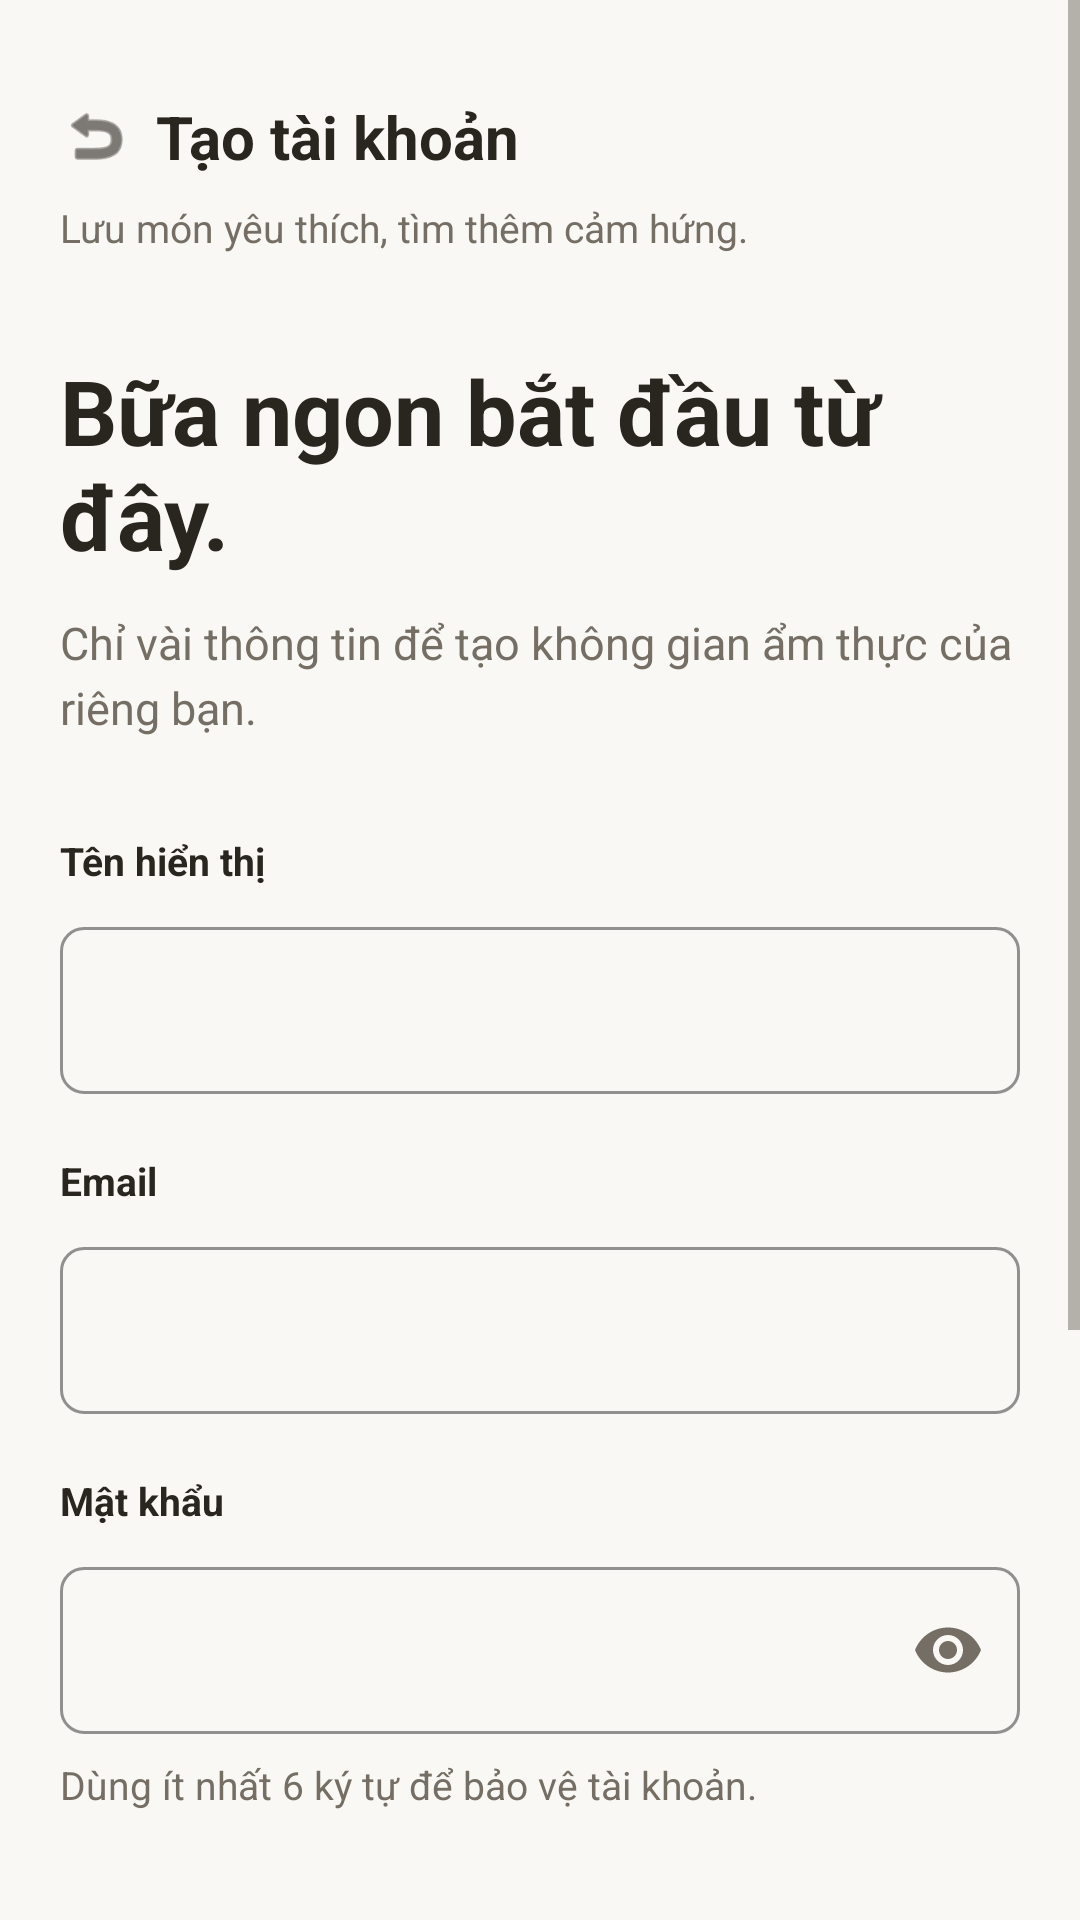

Screen size 1080x1920. Icon name, then its center in pixels as (x=x, y=y):
revert: (x=97, y=136)
